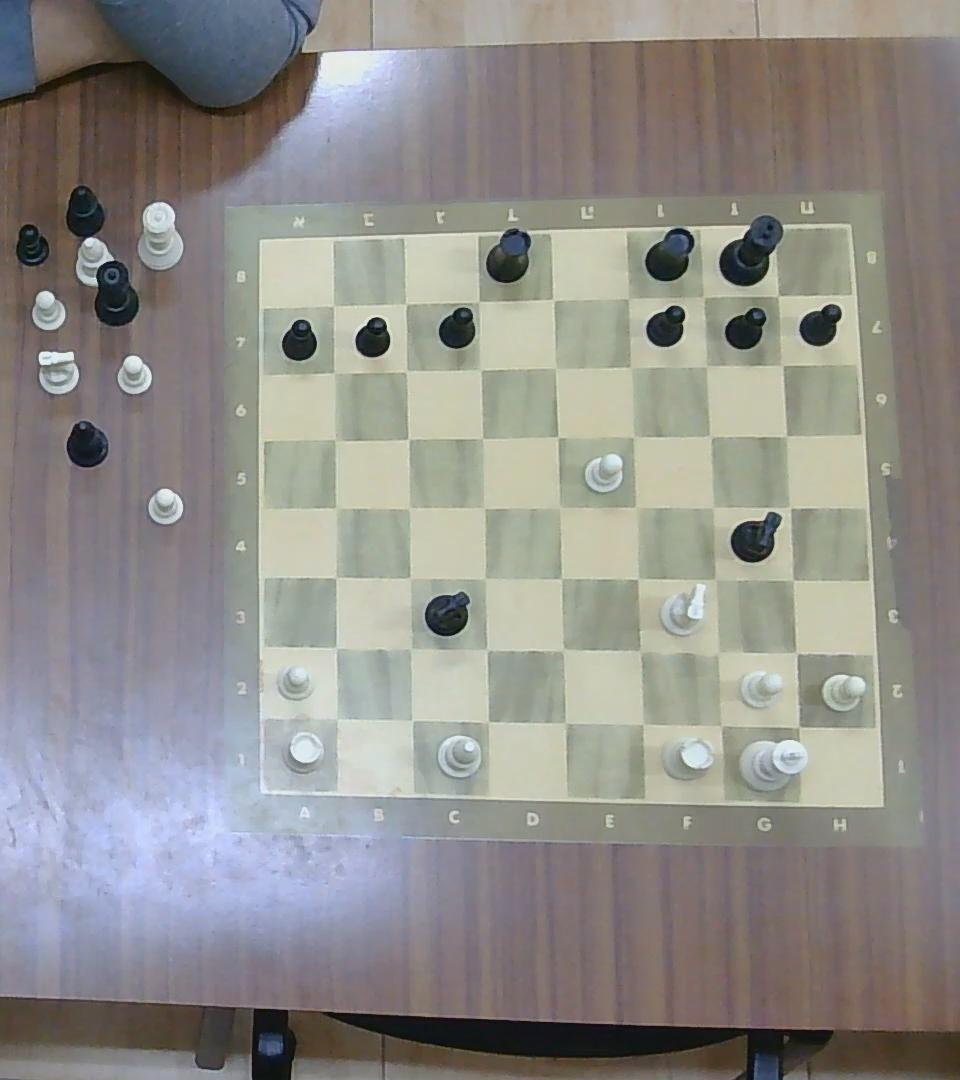xcorner: (781, 708, 815, 742), (624, 707, 659, 740), (703, 707, 737, 740), (702, 636, 734, 669), (548, 706, 579, 738), (471, 704, 502, 736), (780, 637, 812, 668), (320, 701, 351, 732), (625, 635, 655, 667), (622, 563, 652, 594), (395, 703, 425, 734), (470, 634, 501, 664), (700, 563, 730, 594), (548, 634, 578, 664), (547, 563, 576, 594), (394, 633, 424, 662), (320, 562, 350, 591), (320, 633, 350, 662), (698, 491, 728, 520), (622, 491, 651, 520), (394, 562, 423, 591), (616, 351, 645, 380), (470, 564, 500, 592), (545, 493, 573, 522), (777, 566, 806, 594), (467, 422, 495, 451), (775, 492, 804, 520), (619, 421, 648, 449), (470, 492, 498, 520), (543, 421, 571, 449), (393, 425, 422, 452), (692, 352, 721, 379), (322, 494, 350, 521), (318, 291, 346, 318), (540, 284, 566, 313), (395, 493, 423, 519), (615, 285, 643, 311), (696, 422, 723, 448), (542, 353, 569, 379), (393, 356, 419, 382), (322, 358, 348, 384), (322, 426, 348, 451), (467, 355, 492, 380), (393, 291, 418, 315), (773, 423, 798, 447), (691, 283, 716, 307), (466, 288, 491, 312), (770, 353, 793, 375), (767, 284, 790, 306)
